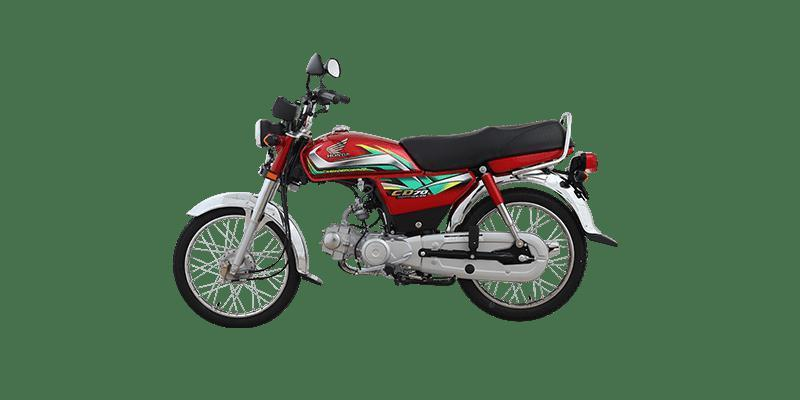motorcycle: (103, 41, 664, 336)
